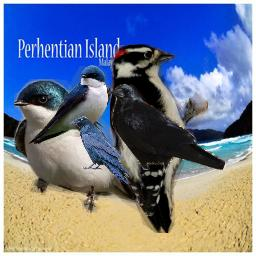Crow: (108, 84, 226, 170), (70, 116, 132, 184)
Swallow: (14, 79, 140, 213), (28, 65, 111, 145)
Woodpecker: (110, 44, 208, 233)
